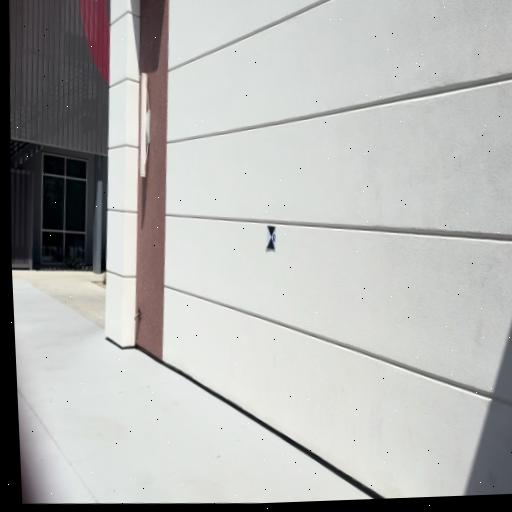target0: (266, 225, 275, 250)
